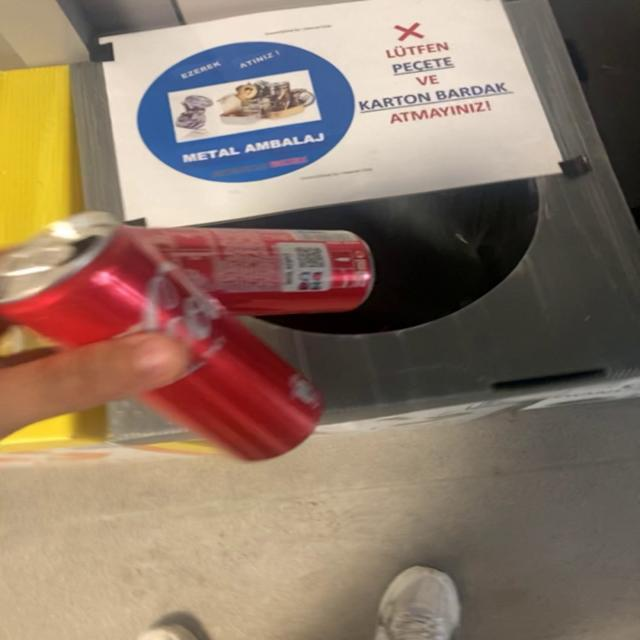Bin: (209, 0, 639, 423), (68, 61, 127, 214), (68, 61, 121, 219)
Metal: (1, 212, 372, 460)
